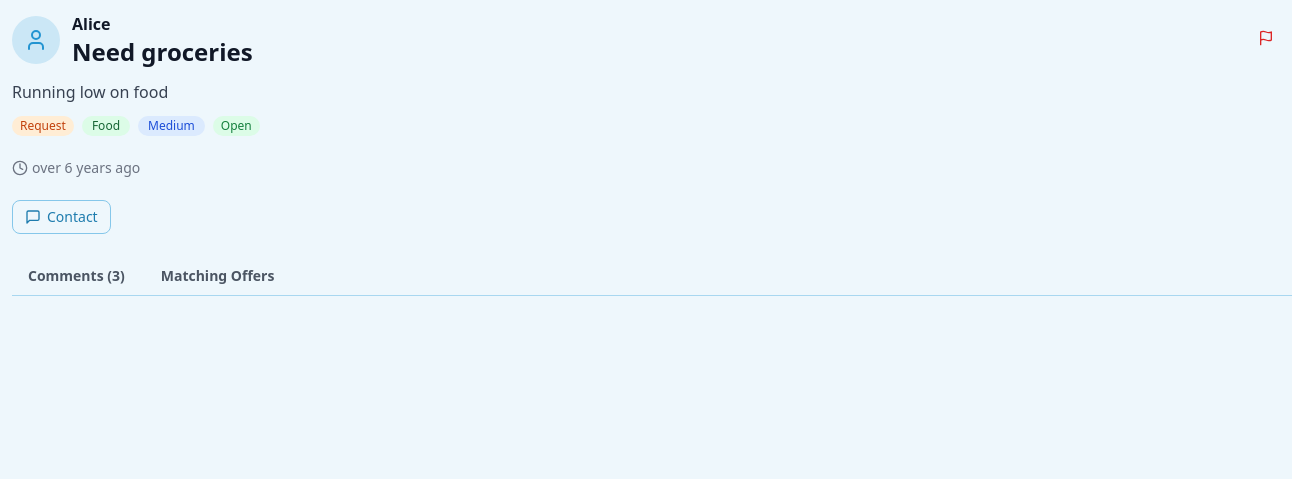
Scenario: PostDetailContent — card variant sections › fetches and renders matches only when the section is opened
What coordinates should you click on to do the following:
click the button "Matching Offers"
I would click on:
 (218, 277)
Its box is [145,258,290,296].
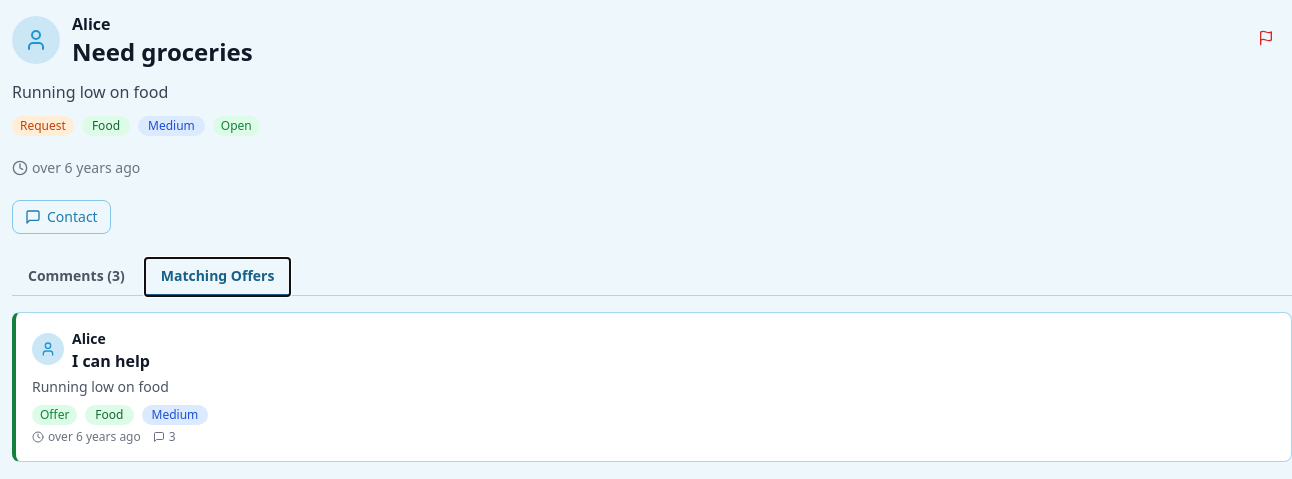
Check: the heading "I can help" is shown, box [72,350,150,372]
